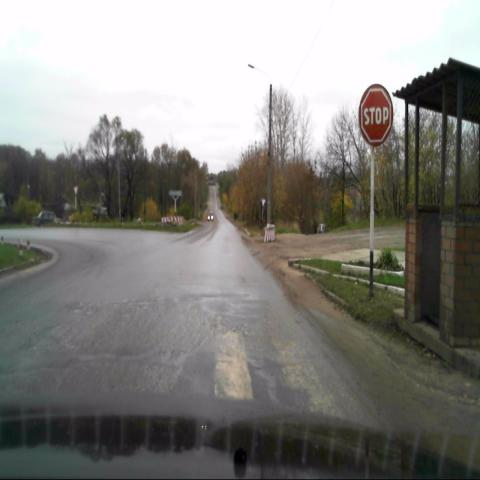2_5: (359, 85, 393, 146)
